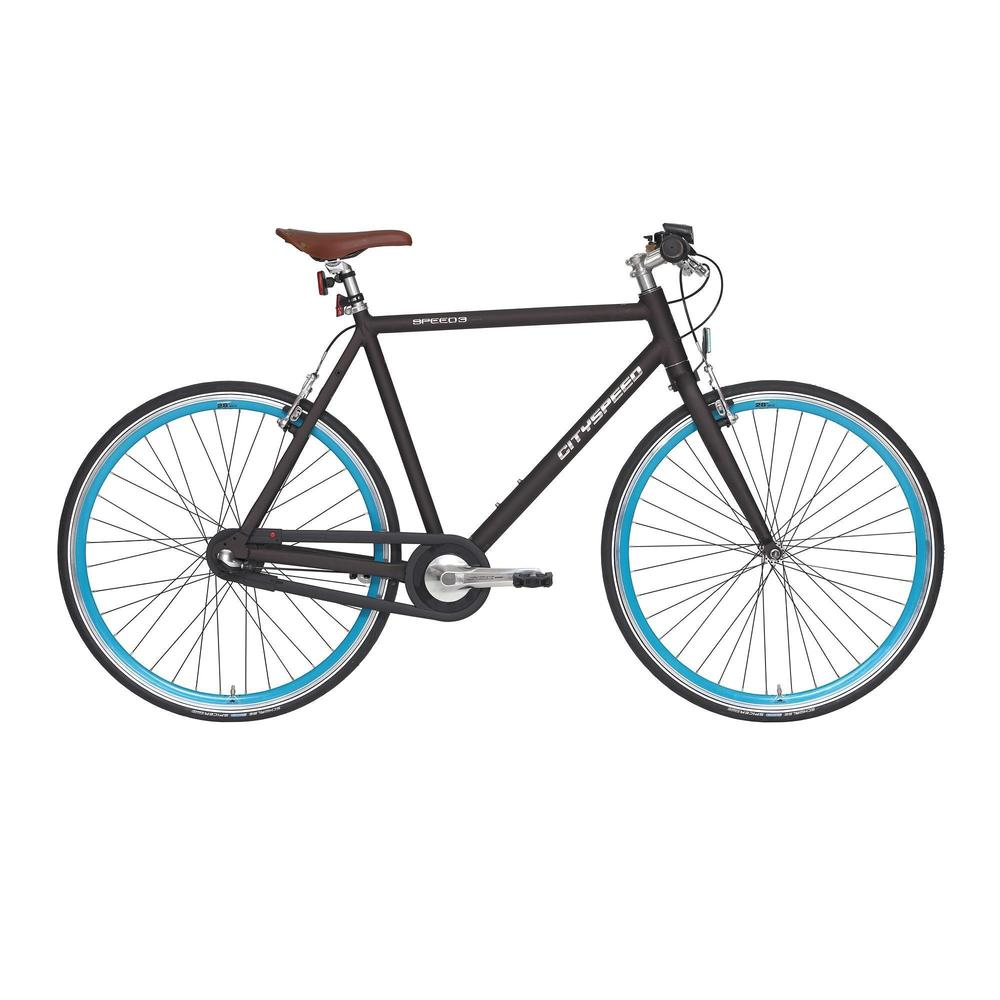UrbanBike: (51, 217, 947, 725)
